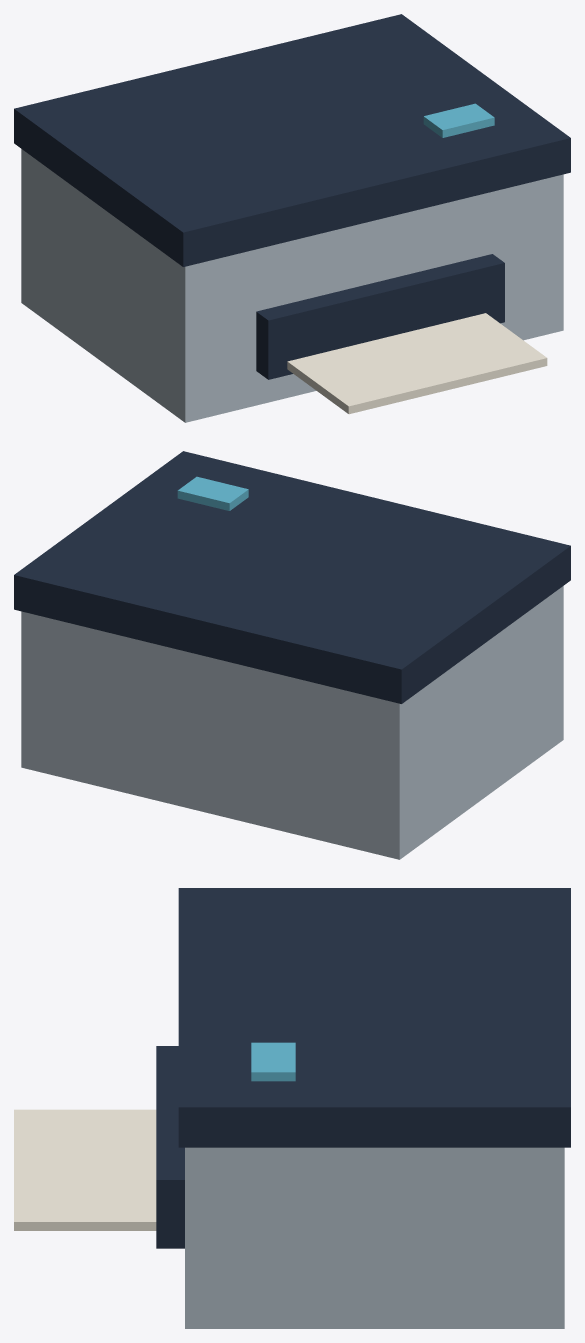
Rendered from officeDeskPrinter.glb.
The picture shows the model from 3 angles, top to bottom: view 1: azimuth 30°, elevation 25°; view 2: azimuth 150°, elevation 25°; view 3: azimuth 270°, elevation 25°; orthographic projection. The views are drawn at different scales.
Bounding box in the file's own units: 0.41 × 0.204 × 0.44.
